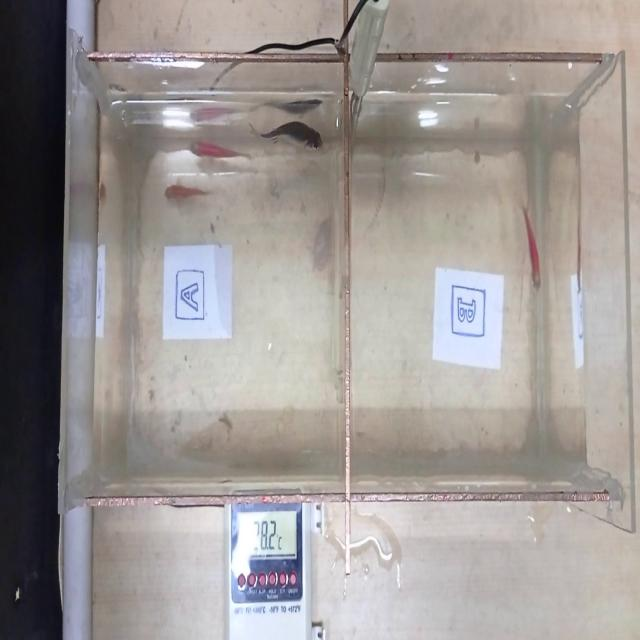Fish A1: (247, 103, 334, 174)
Fish A2: (160, 178, 218, 225)
Fish A3: (183, 128, 258, 183)
Fish B: (515, 188, 549, 324)
